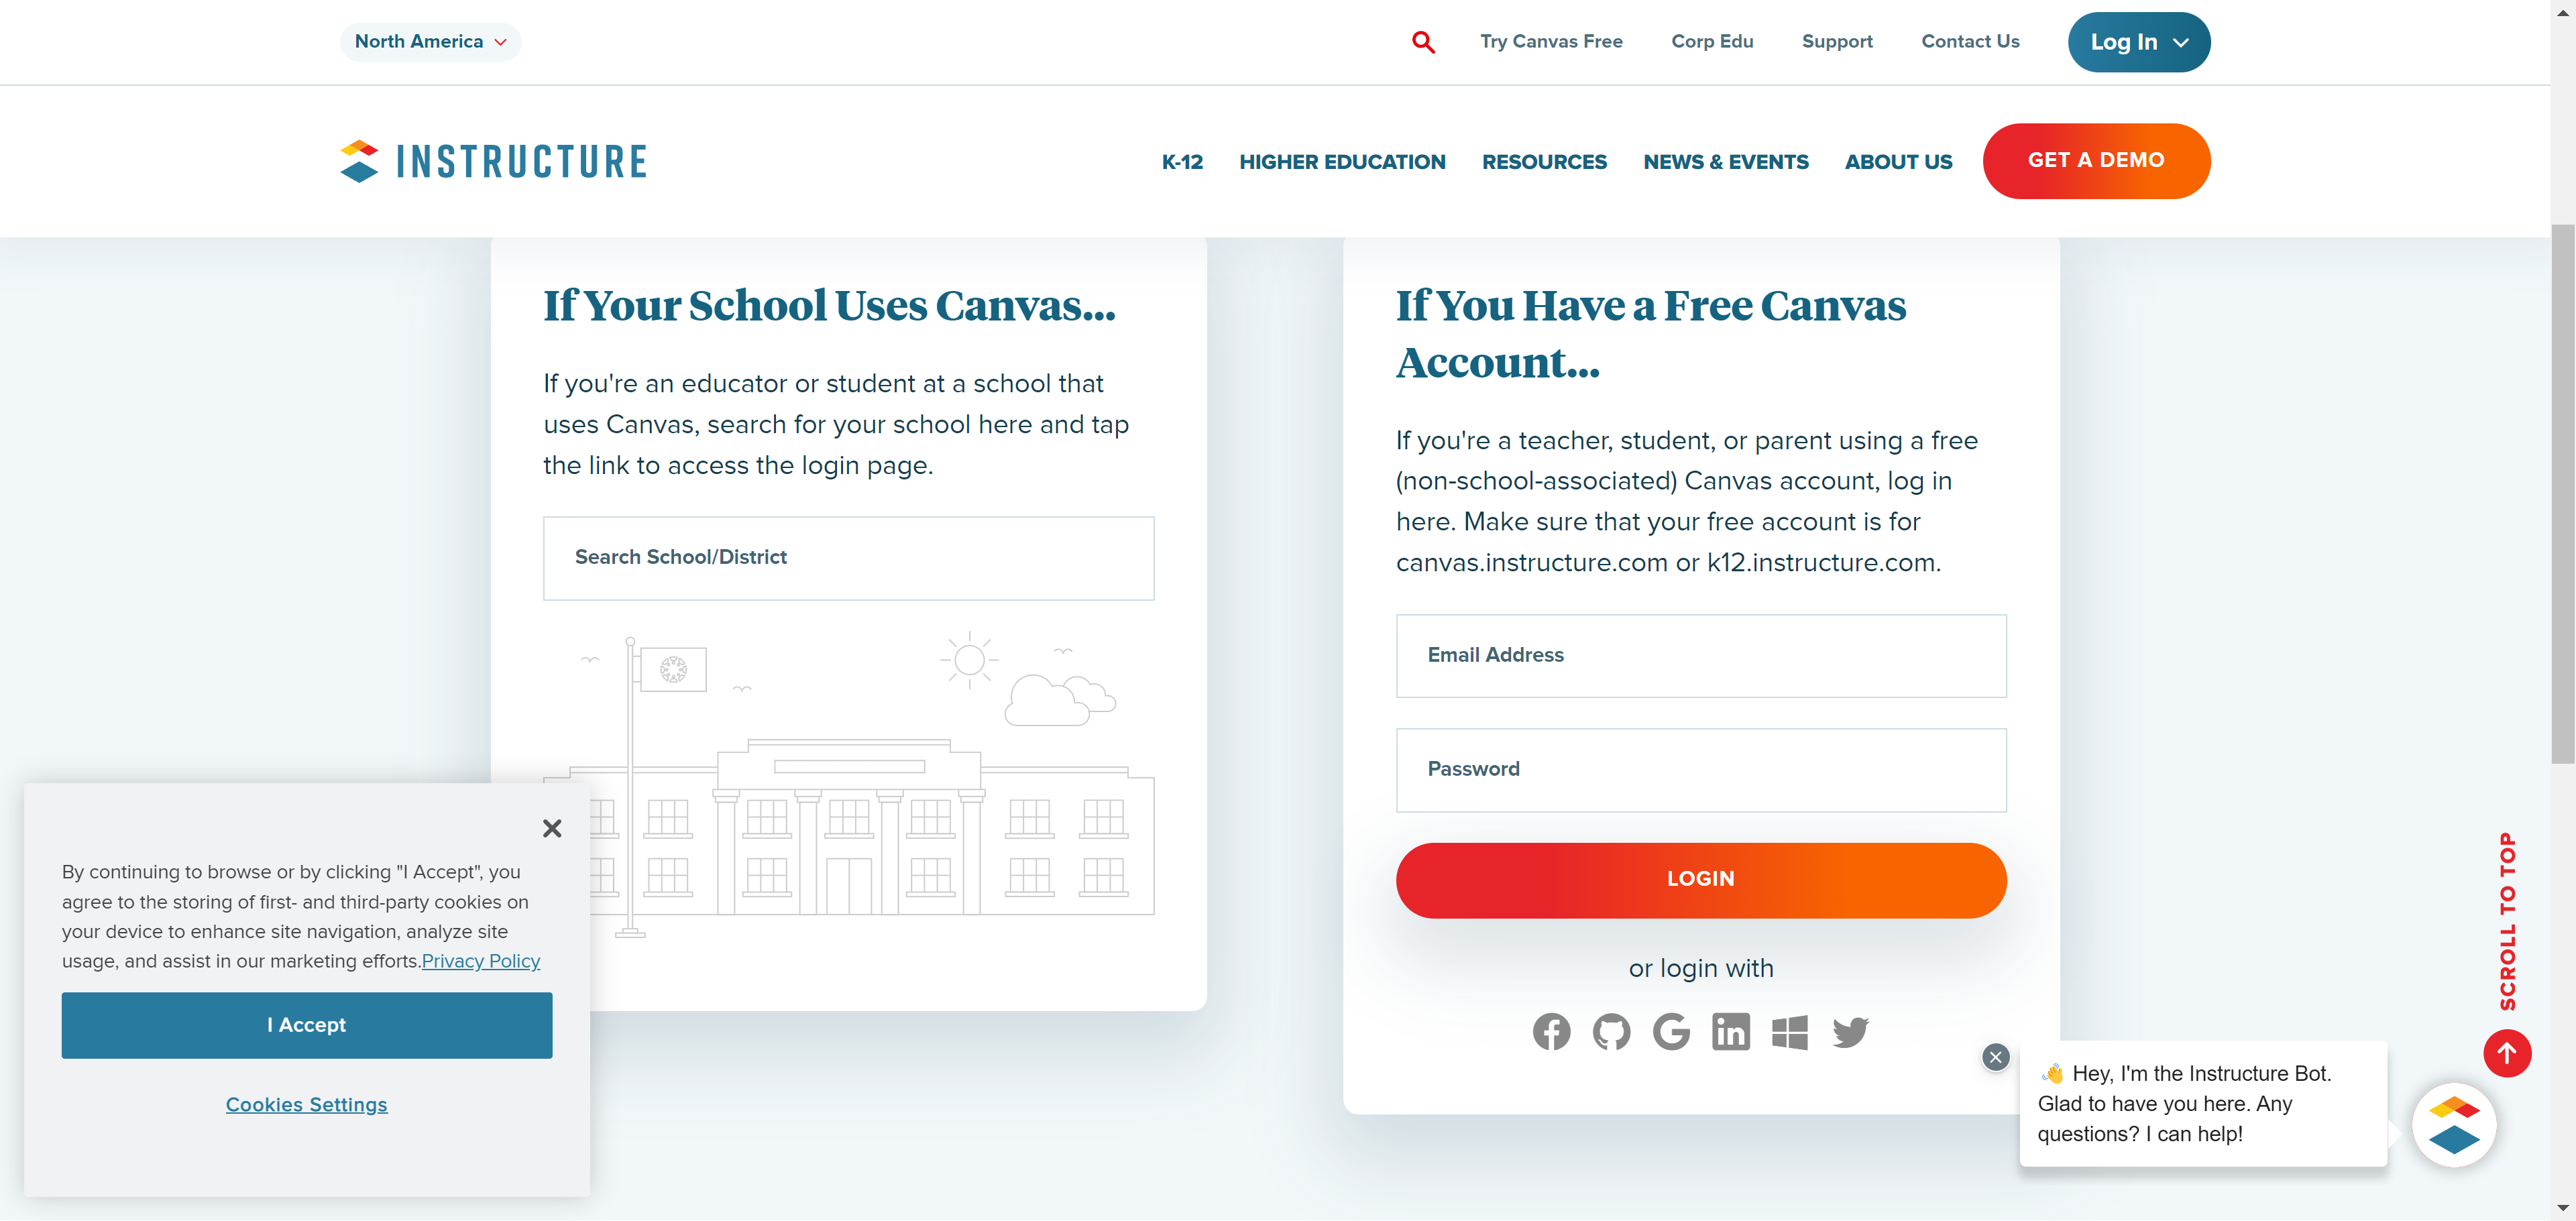login_button: (1396, 843, 2008, 919)
login_form: (1387, 605, 2017, 932)
